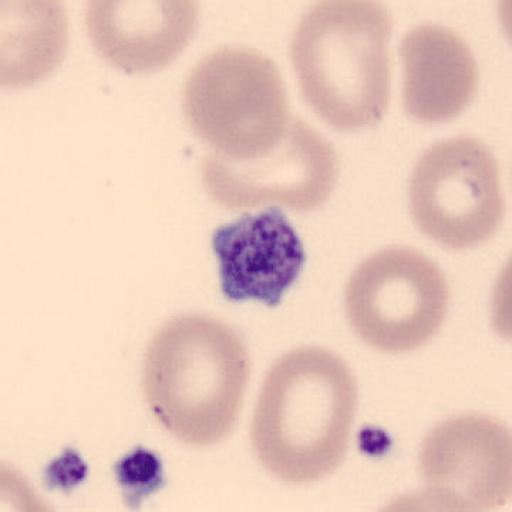Platelet: (209, 205, 312, 308)
RBC: (248, 341, 362, 487), (140, 306, 253, 450), (196, 112, 340, 219), (284, 0, 392, 138), (180, 40, 291, 162), (340, 240, 452, 354), (402, 130, 505, 250), (413, 405, 511, 512), (82, 0, 201, 80), (396, 21, 479, 127), (1, 0, 71, 97), (0, 448, 70, 512), (357, 484, 489, 512), (486, 255, 512, 350), (490, 0, 512, 48)
